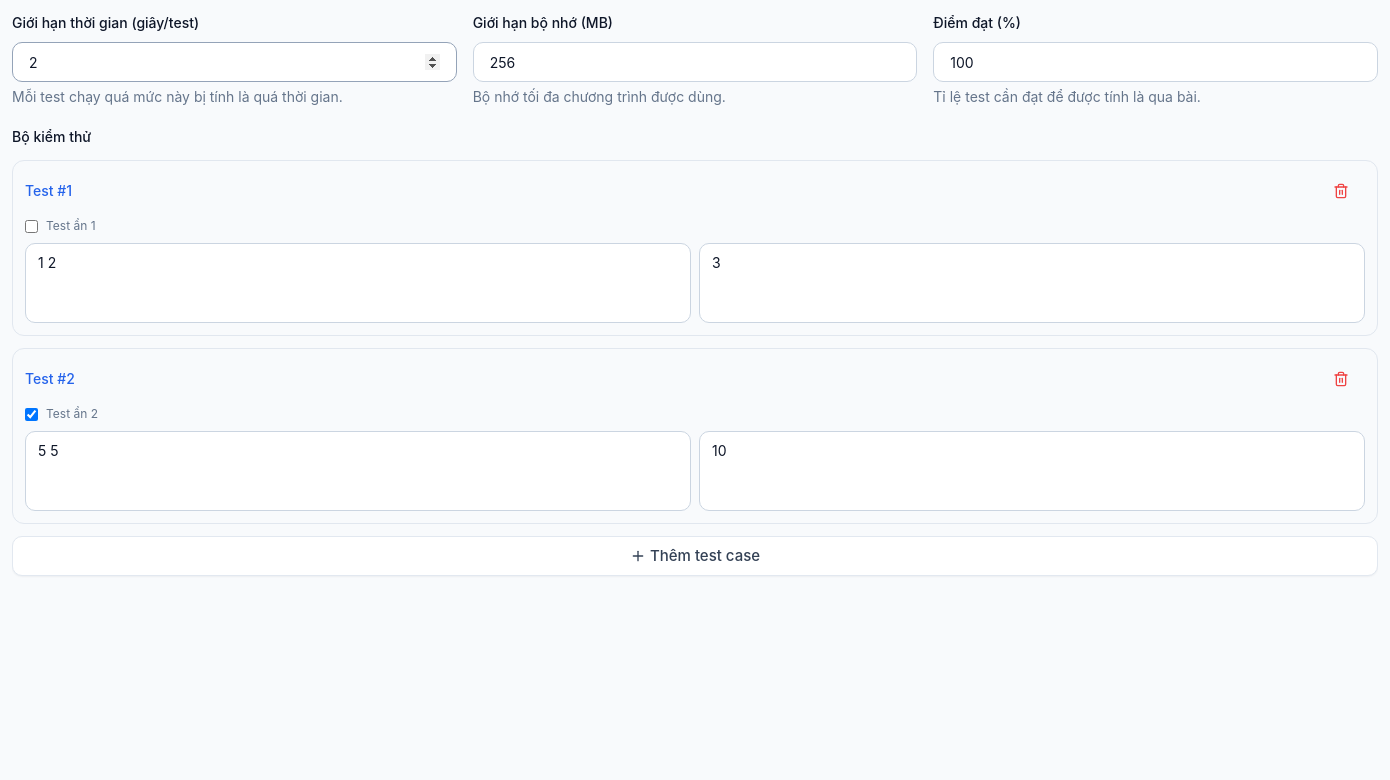
Test: ExerciseSettingsEditor › ẩn hết test công khai -> chặn lưu và nói rõ luật
The image size is (1390, 780).
Check: the text box showing "5 5" is shown, box x1=25 y1=431 x2=691 y2=511
Click the checkbox labelled "Test ẩn 1" at (32, 226), box x1=25 y1=220 x2=38 y2=232
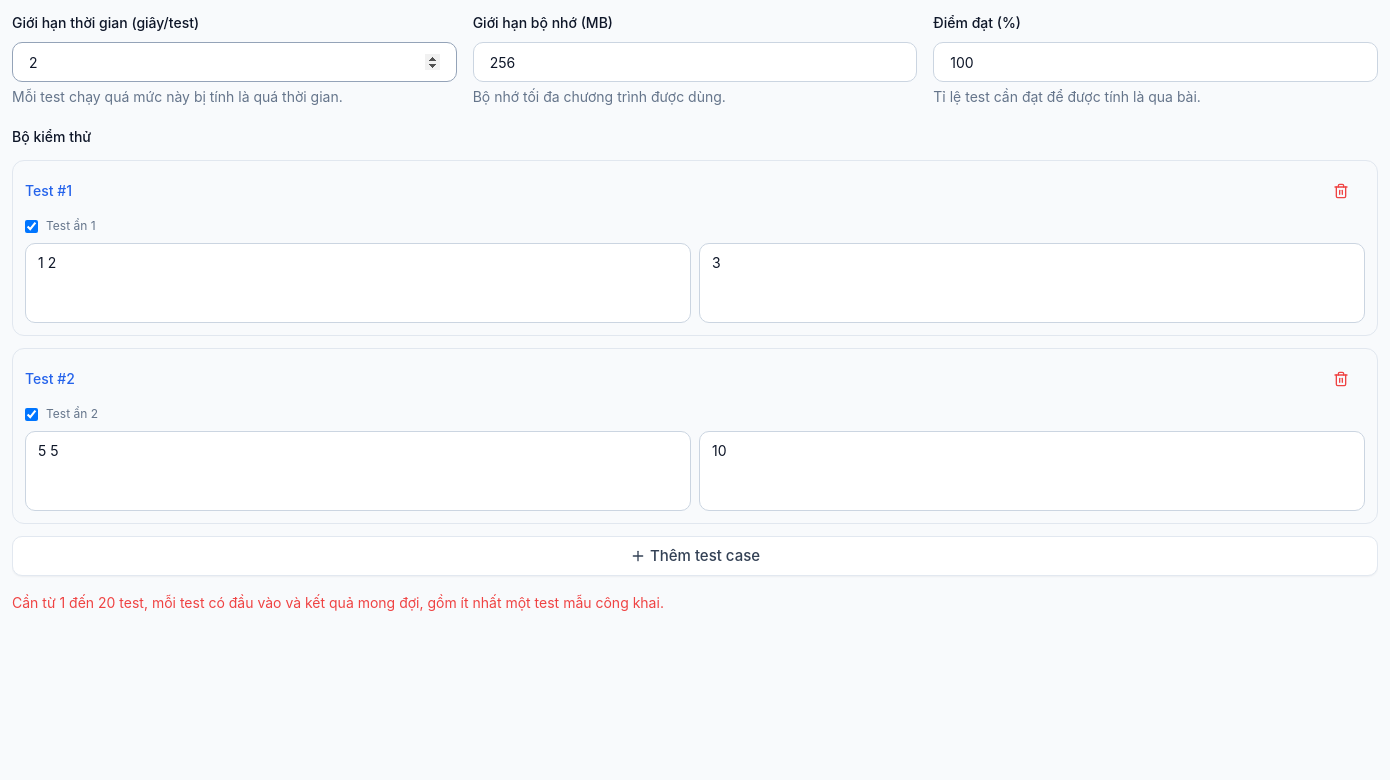
Check: the message with test id "exercise-test-cases-error" shows "ít nhất một test mẫu công khai", box x1=12 y1=594 x2=664 y2=611
